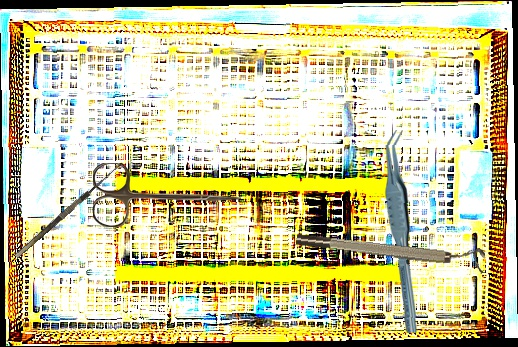Fixation Ring: (295, 222, 486, 275)
Hook Surgical: (9, 156, 124, 259)
Iris Scissors: (93, 163, 241, 227)
Tissue Forceps: (381, 129, 422, 334)
